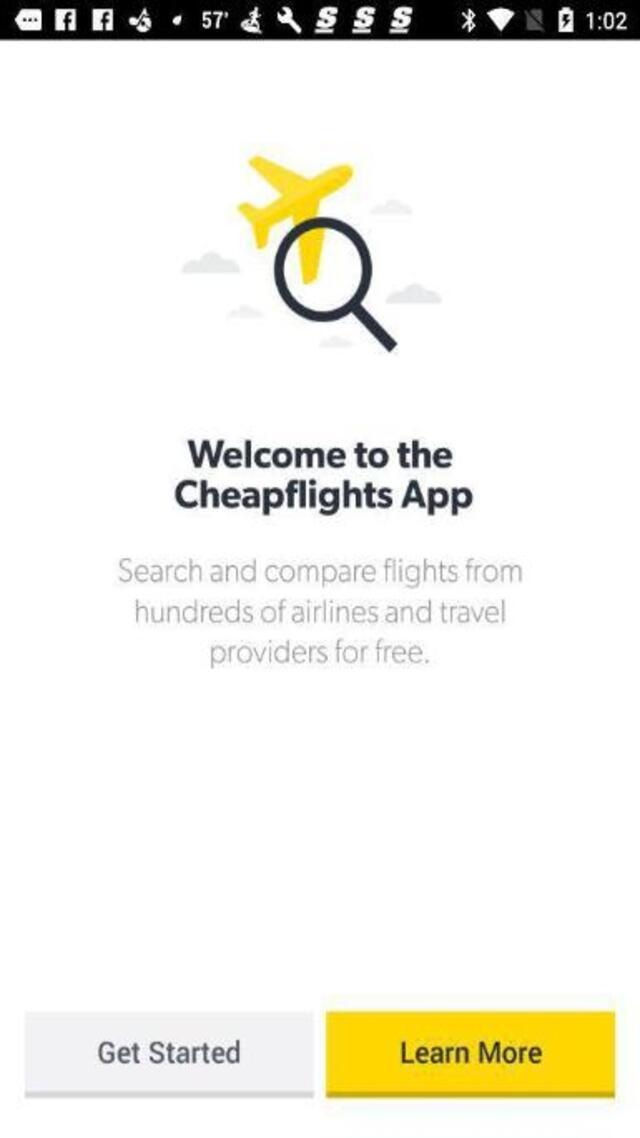Icon: (180, 154, 442, 355)
Text: (117, 556, 526, 590), (170, 476, 474, 518), (129, 598, 510, 626), (183, 438, 457, 469), (206, 637, 433, 670), (395, 1035, 550, 1071), (92, 1035, 246, 1069)
TextButton: (326, 1009, 615, 1096), (25, 1012, 314, 1097)
